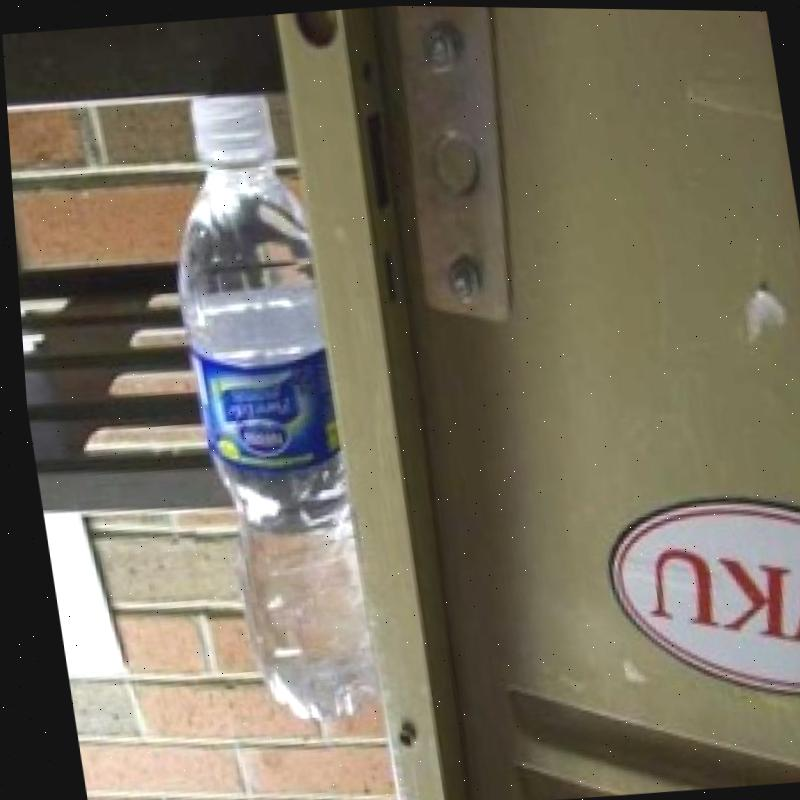botella: (143, 81, 376, 728)
